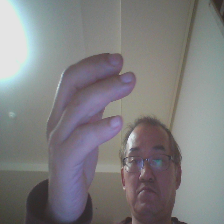hand: (37, 42, 135, 223)
